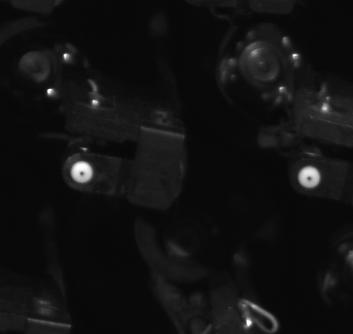fiber: (290, 160, 326, 194), (67, 157, 100, 190)
